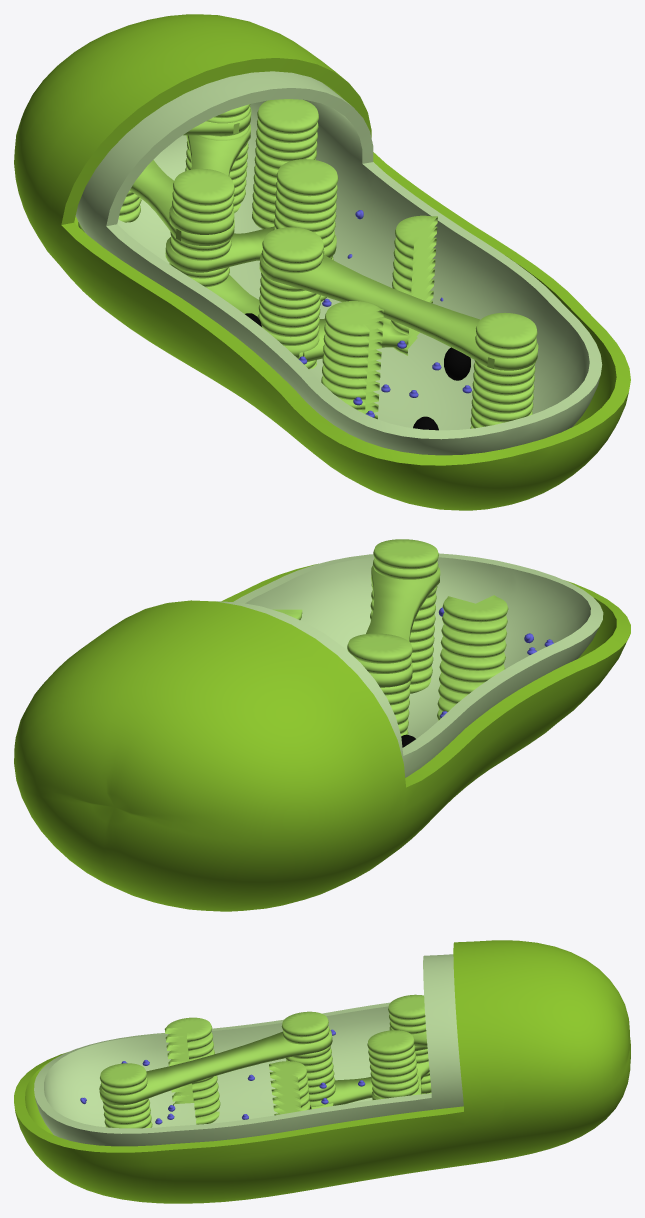
File: CLOROPLASTO.fbx
3 views of the same model, one above another, from view 1: azimuth 30°, elevation 25°; view 2: azimuth 150°, elevation 25°; view 3: azimuth 270°, elevation 25° (orthographic). The views are drawn at different scales.
Visible parts, largest first — view 1: Cloroplasto; view 2: Cloroplasto; view 3: Cloroplasto.
Part boxes in pixels (bbox=[...]): Cloroplasto: bbox=[14, 14, 630, 510]; Cloroplasto: bbox=[14, 539, 630, 911]; Cloroplasto: bbox=[14, 940, 630, 1203].
Bounding box in the file's own units: 406 × 325 × 825.
